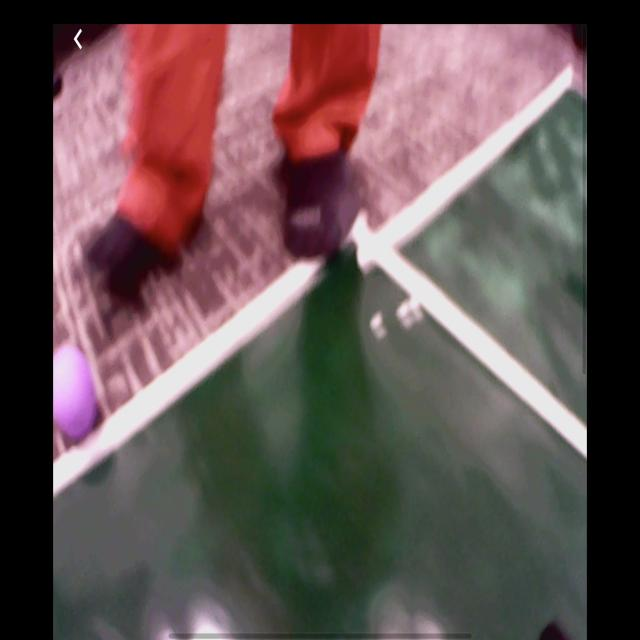ball: (55, 346, 98, 440)
